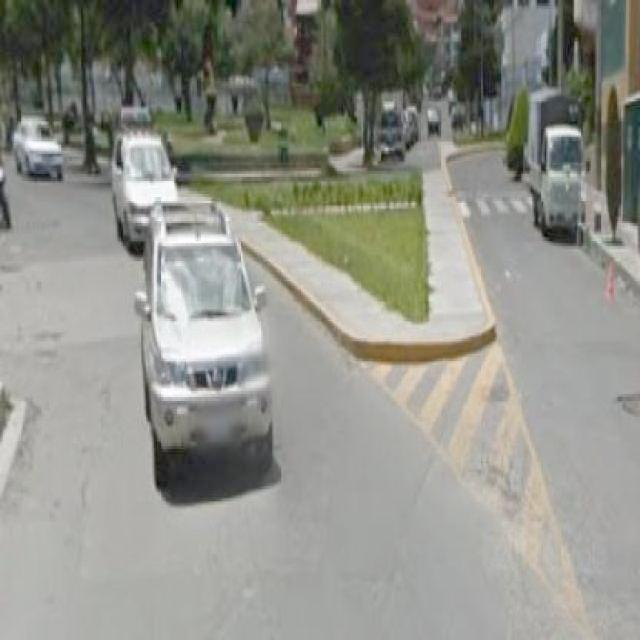car: (138, 205, 280, 478), (104, 115, 185, 240), (11, 101, 64, 172)
